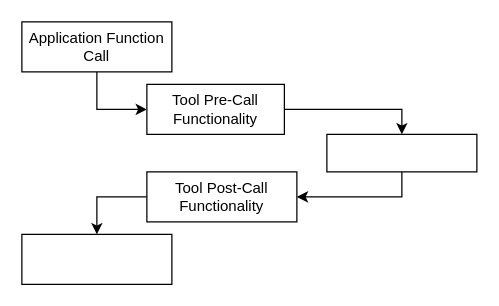
The diagram is 499 pixels wide and 306 high, and some of its shapes have lost their labels. The box of each missing label's shape, as (x1, y1, x2, y2) in pixels:
Application Function Return: (21, 233, 172, 284)
Library Function Call: (326, 133, 477, 172)
